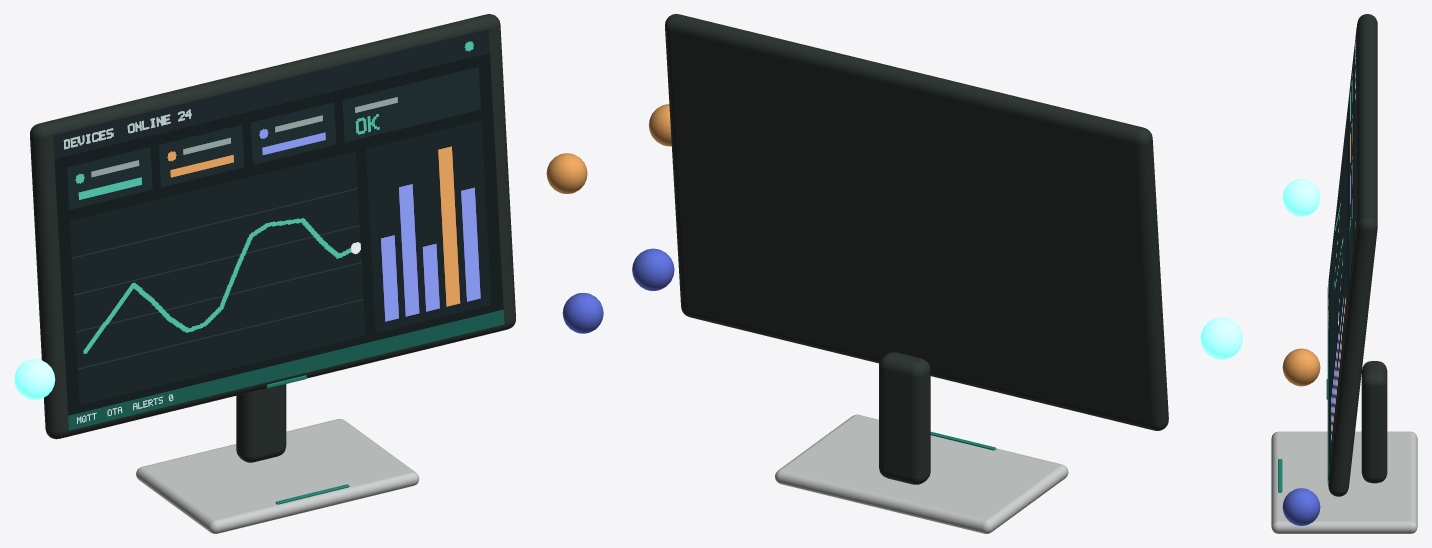
File: device-monitor.glb
The picture shows the model from 3 angles, left to right: view 1: azimuth 30°, elevation 25°; view 2: azimuth 150°, elevation 25°; view 3: azimuth 270°, elevation 25°; orthographic projection. The views are drawn at different scales.
Parts seen in each view (by area): view 1: panel, stand, node-glow, node-amber, node-indigo; view 2: panel, stand, node-glow, node-indigo, node-amber; view 3: panel, stand, node-indigo, node-glow, node-amber.
Part boxes in pixels (x1=…): panel: x1=30, y1=14, x2=515, y2=439; stand: x1=136, y1=384, x2=419, y2=533; node-glow: x1=14, y1=359, x2=55, y2=399; node-amber: x1=546, y1=153, x2=587, y2=193; node-indigo: x1=562, y1=293, x2=603, y2=333; panel: x1=665, y1=14, x2=1168, y2=430; stand: x1=775, y1=352, x2=1068, y2=533; node-glow: x1=1200, y1=317, x2=1242, y2=359; node-indigo: x1=632, y1=248, x2=674, y2=290; node-amber: x1=648, y1=104, x2=671, y2=146; panel: x1=1326, y1=14, x2=1377, y2=496; stand: x1=1271, y1=361, x2=1417, y2=533; node-indigo: x1=1282, y1=488, x2=1320, y2=525; node-glow: x1=1282, y1=179, x2=1320, y2=216; node-amber: x1=1282, y1=348, x2=1320, y2=386.
Size of the model in its own units: 7.24 by 4.79 by 1.7.
Materials: 7 (1 with a texture image).
